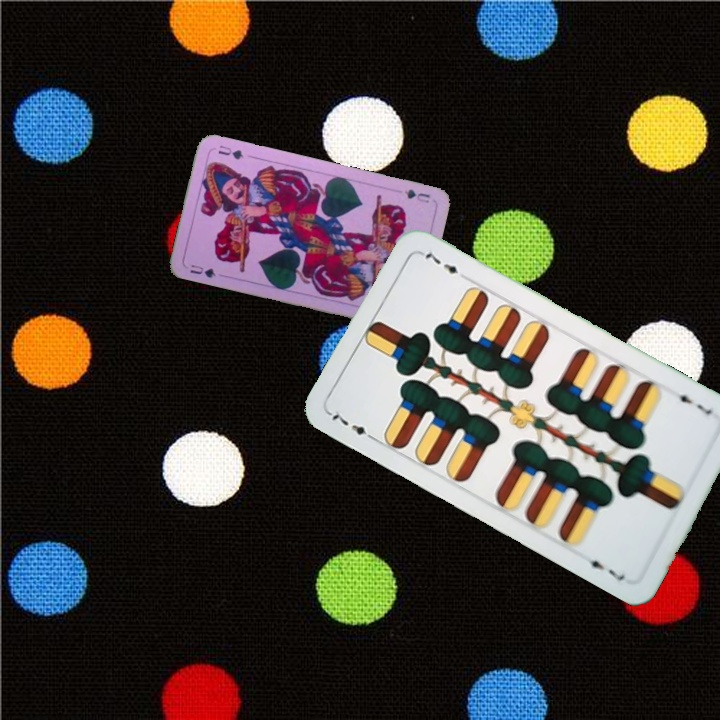E7: (326, 408, 379, 444), (671, 387, 715, 418)
GU: (186, 260, 218, 281), (400, 185, 432, 206)
